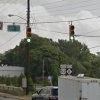Traffic light: (16, 20, 85, 49)
